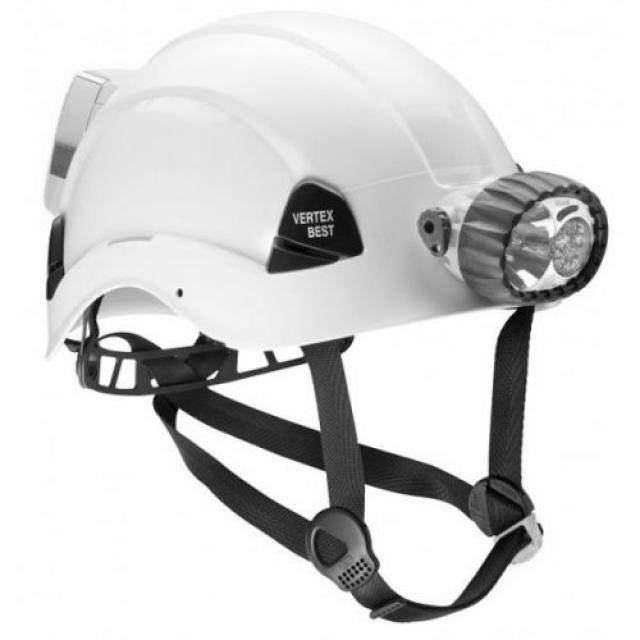safety_helmet: (44, 14, 608, 625)
